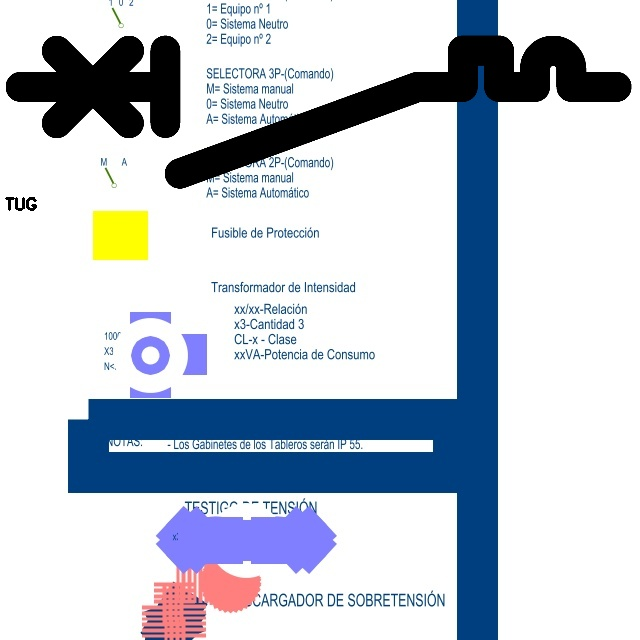interruptor_termomagnetico: (5, 35, 632, 188)
